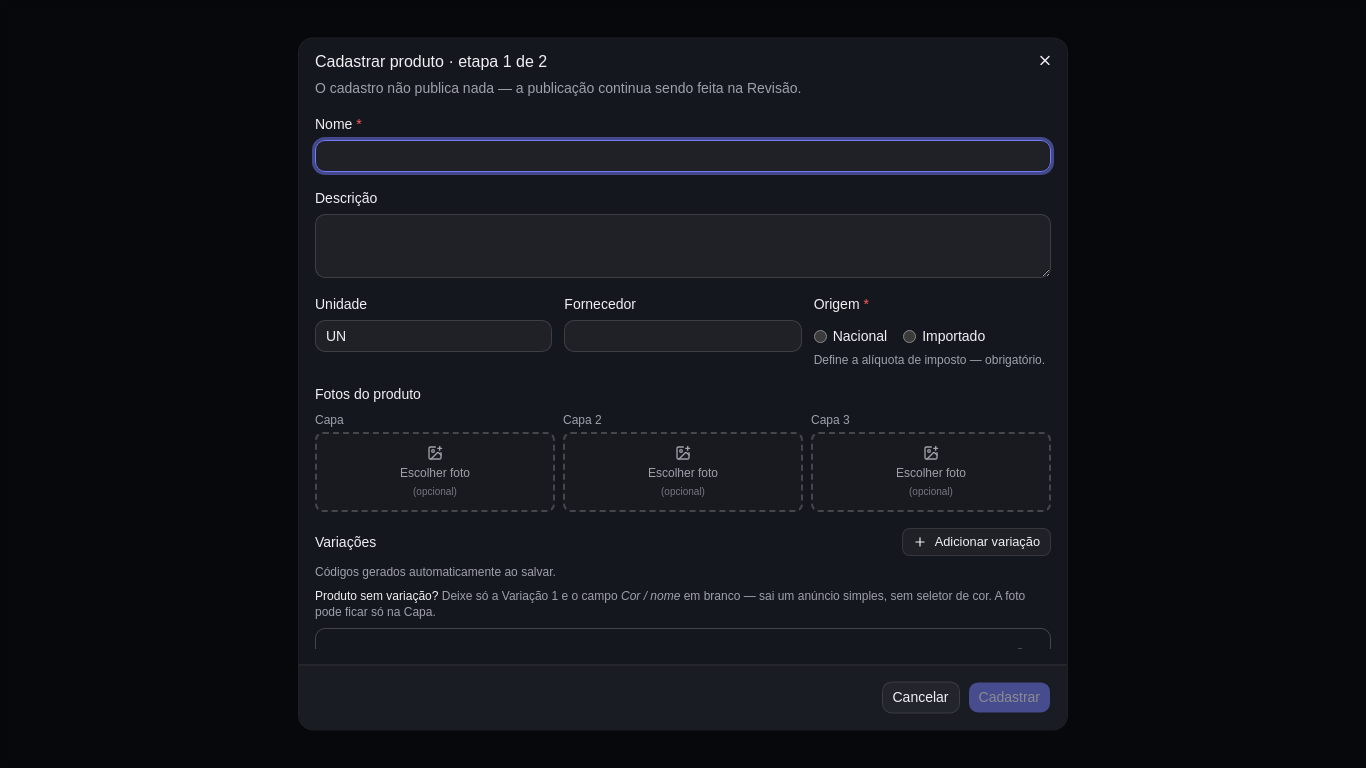
DialogCadastroProduto — formulário em cards › dica de produto sem variação aparece com 1 linha e some ao adicionar a 2ª
Expected: the text "Produto sem variação?" is shown, [315,589,438,603]
Click the button "Adicionar variação".
click(976, 542)  # box [902,528,1051,556]
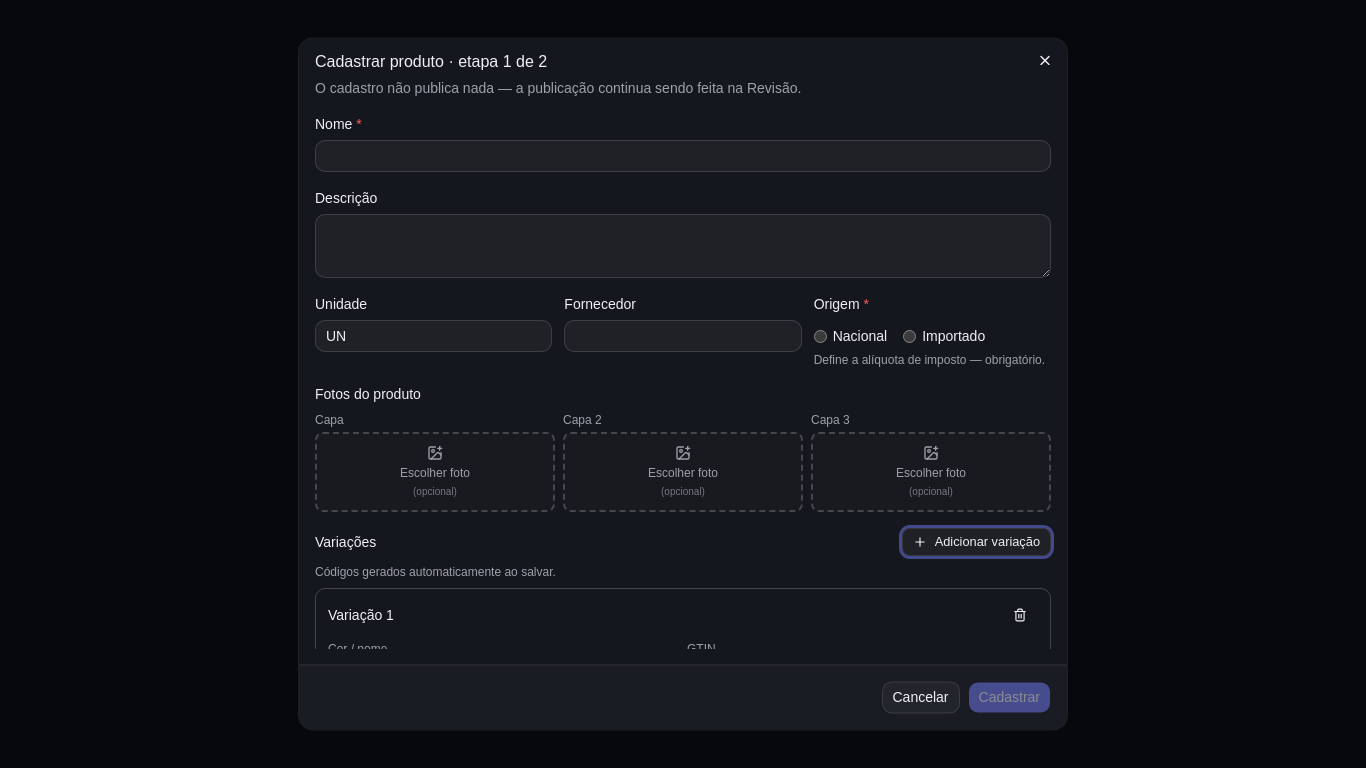
Expected: the text "Produto sem variação?" is gone
